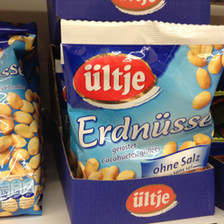nuts: (60, 18, 224, 181)
